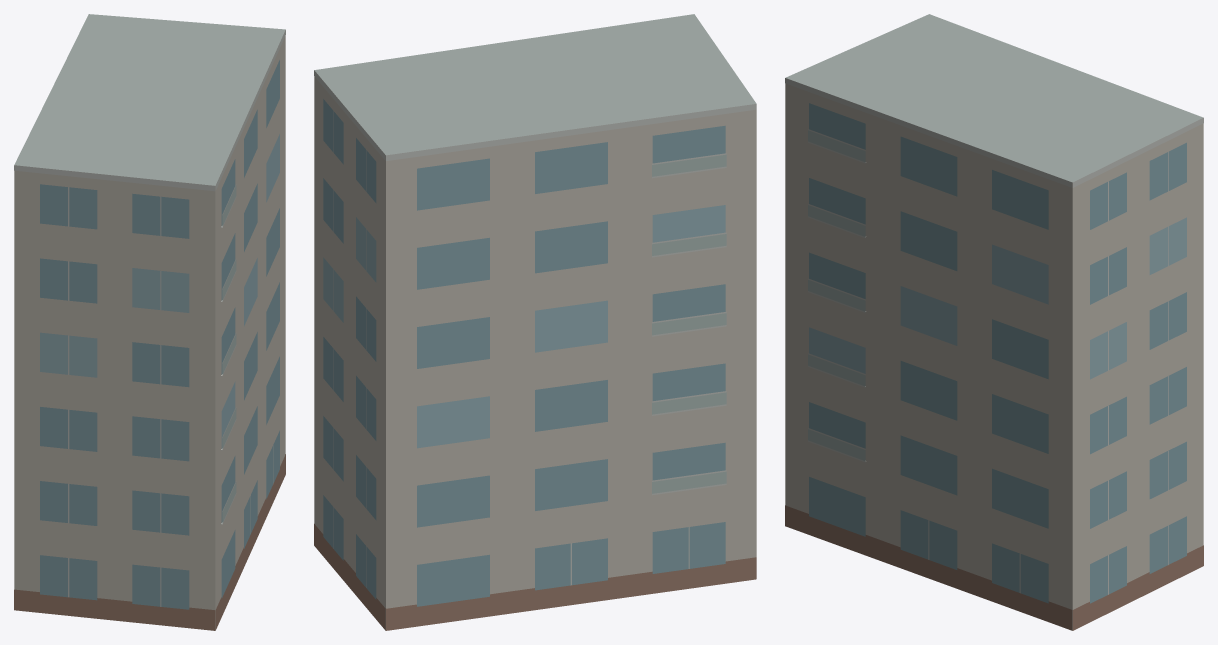
File: survey-upis-32884728.glb
The picture shows the model from 3 angles, left to right: view 1: azimuth 30°, elevation 25°; view 2: azimuth 150°, elevation 25°; view 3: azimuth 270°, elevation 25°; orthographic projection. The views are drawn at different scales.
Parts seen in each view (by area): view 1: survey-upis-32884728.tmp; view 2: survey-upis-32884728.tmp; view 3: survey-upis-32884728.tmp.
Boxes of the visible parts, x1=… form: survey-upis-32884728.tmp: x1=14, y1=14, x2=285, y2=630; survey-upis-32884728.tmp: x1=314, y1=14, x2=756, y2=630; survey-upis-32884728.tmp: x1=785, y1=14, x2=1203, y2=630.
Size of the model in its own units: 16.01 by 19.85 by 16.8.
